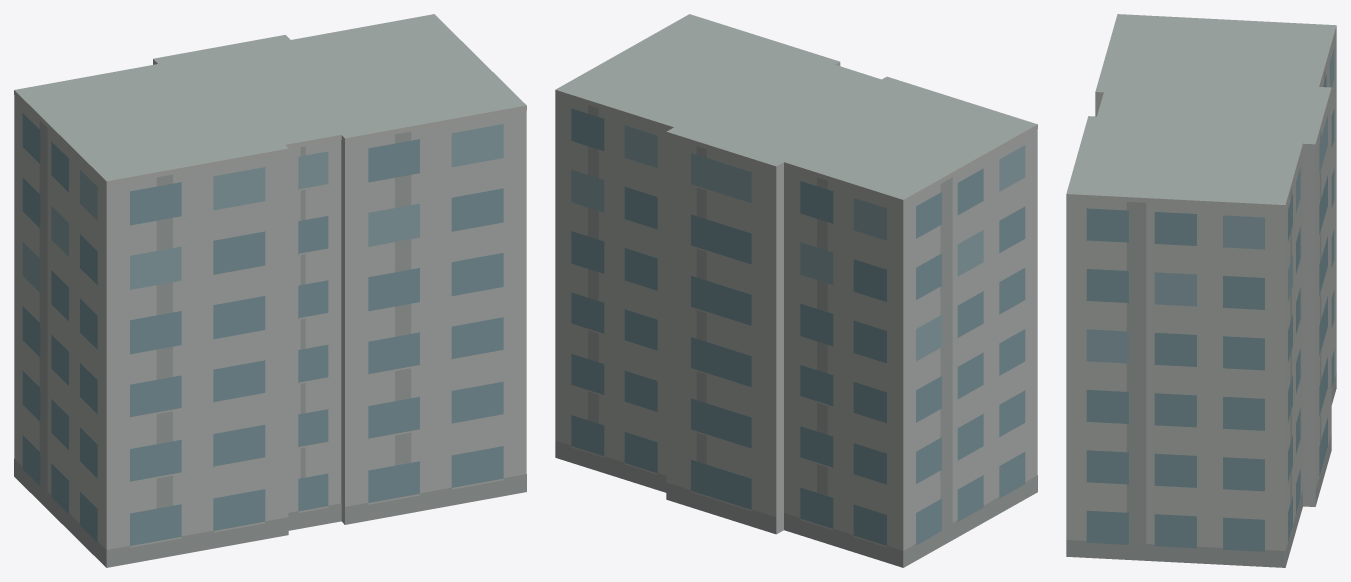
The model's file is survey-upis-32959778.glb.
3 views of the same model, side by side, from view 1: azimuth 30°, elevation 25°; view 2: azimuth 150°, elevation 25°; view 3: azimuth 270°, elevation 25° (orthographic). The views are drawn at different scales.
Parts seen in each view (by area): view 1: survey-upis-32959778.tmp; view 2: survey-upis-32959778.tmp; view 3: survey-upis-32959778.tmp.
Boxes of the visible parts, left/top/right/bottom form: survey-upis-32959778.tmp: left=14, top=14, right=526, bottom=567; survey-upis-32959778.tmp: left=555, top=14, right=1037, bottom=567; survey-upis-32959778.tmp: left=1066, top=14, right=1336, bottom=567.
Size of the model in its own units: 20.92 by 18.5 by 12.5.
